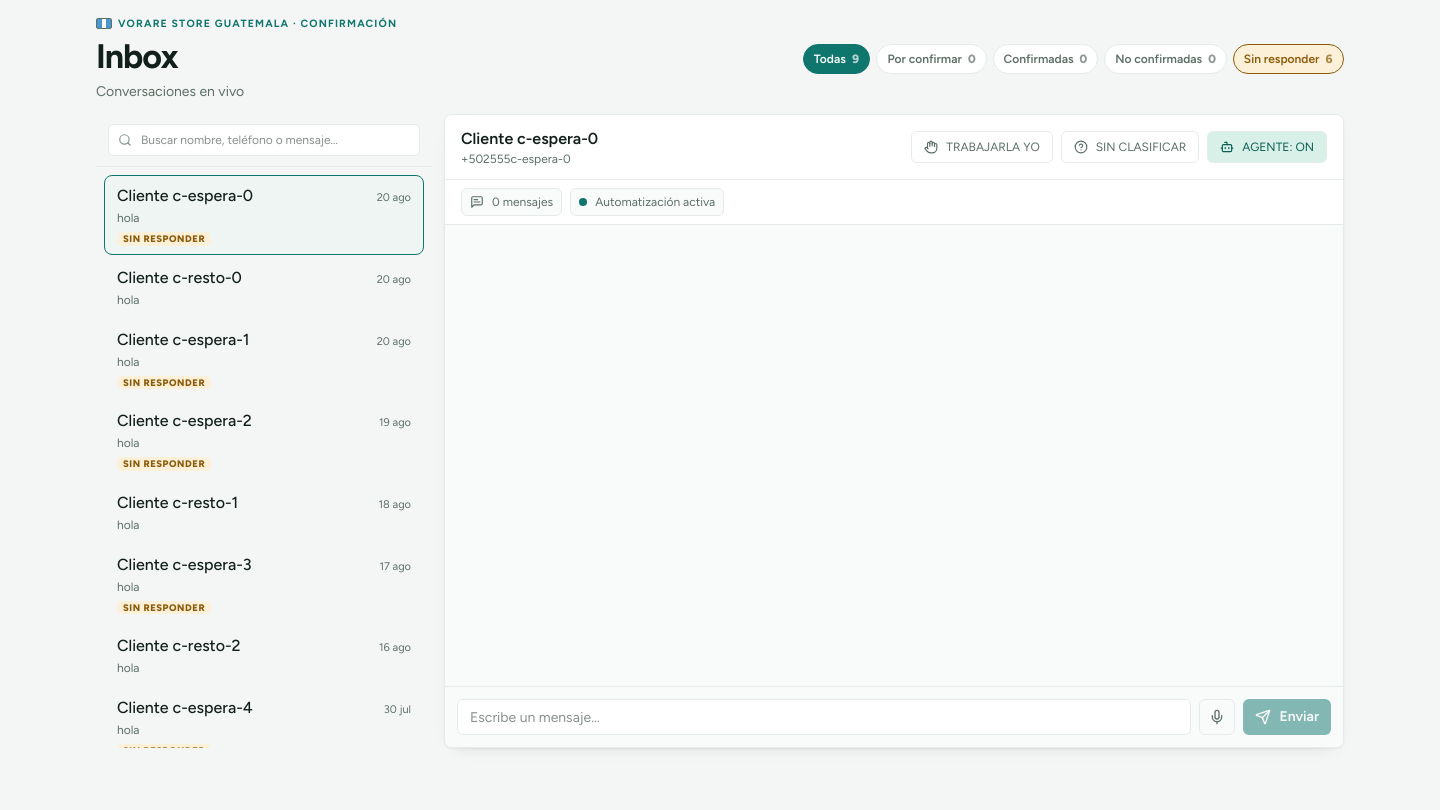
Test: la bandeja va por actividad, sin partirse en dos › las que esperan siguen a un toque, en el filtro
The image size is (1440, 810).
Click the button "Sin responder 6" at (1288, 59), box [1233, 44, 1344, 74]
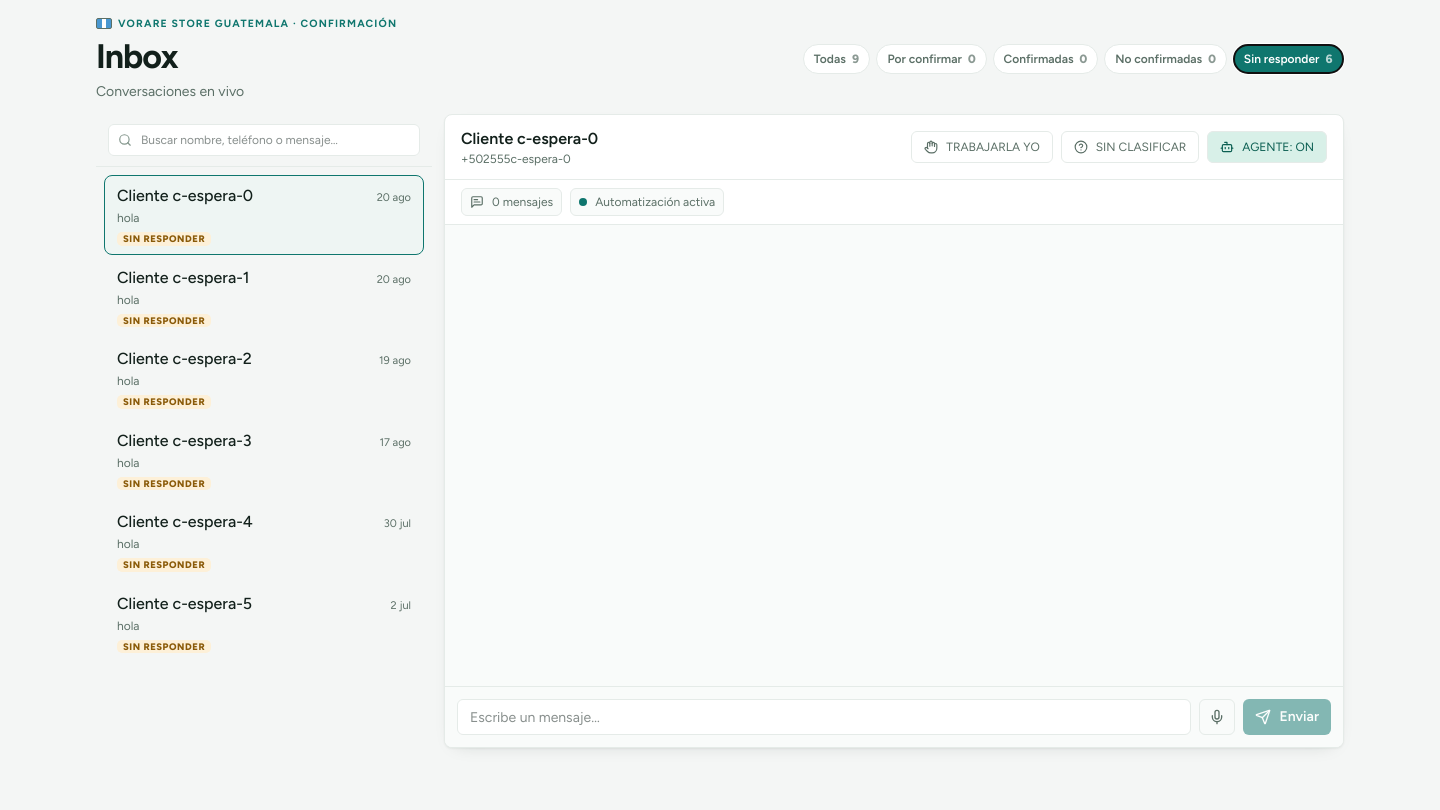
Expected: the number of list items is 6, [104, 175, 424, 255]; [104, 257, 424, 336]; [104, 338, 424, 418]; [104, 420, 424, 499]; [104, 501, 424, 581]; [104, 583, 424, 662]
